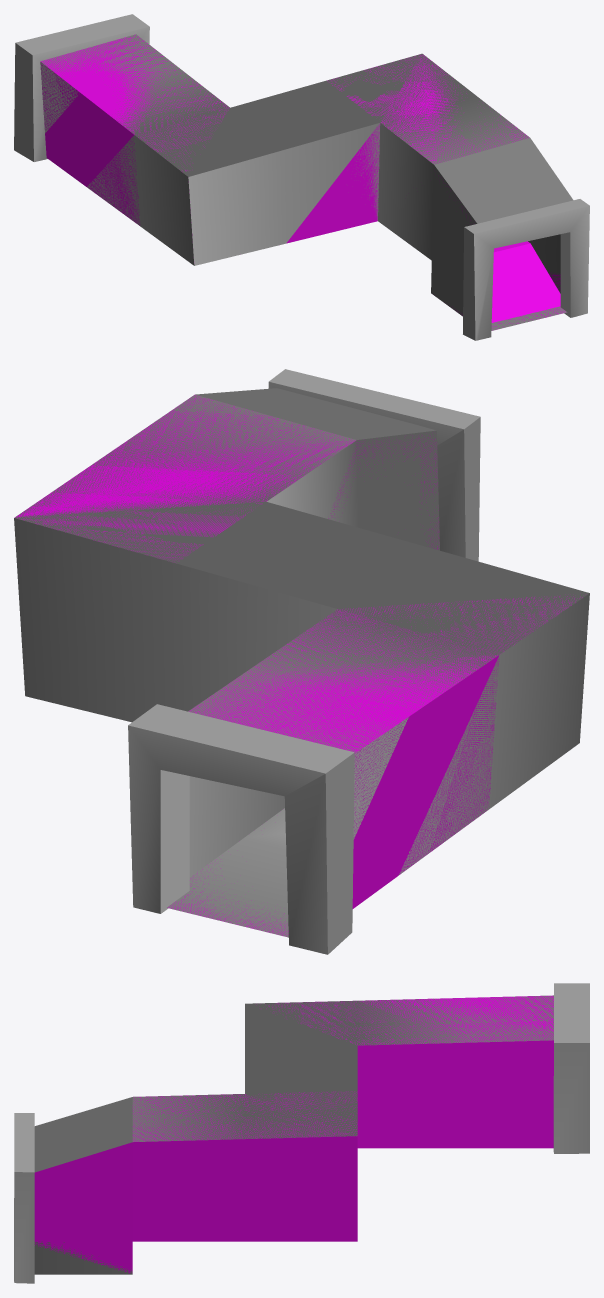
File: office_connector1.fbx
The picture shows the model from 3 angles, top to bottom: view 1: azimuth 30°, elevation 25°; view 2: azimuth 150°, elevation 25°; view 3: azimuth 270°, elevation 25°; orthographic projection. The views are drawn at different scales.
Visible parts, largest first — view 1: wall, polySurface1, DoorFrame_Connector1, DoorFrame_Connector2, stair_collsion, floor; view 2: wall, polySurface1, DoorFrame_Connector2, DoorFrame_Connector1, floor (×2); view 3: polySurface1, wall, DoorFrame_Connector2, DoorFrame_Connector1.
Part boxes in pixels (bbox=[...]): wall: bbox=[40, 34, 573, 316]; polySurface1: bbox=[40, 34, 560, 315]; DoorFrame_Connector1: bbox=[463, 199, 589, 340]; DoorFrame_Connector2: bbox=[14, 14, 149, 161]; stair_collsion: bbox=[491, 241, 560, 322]; floor: bbox=[491, 306, 566, 330]; wall: bbox=[14, 388, 589, 877]; polySurface1: bbox=[14, 394, 582, 908]; DoorFrame_Connector2: bbox=[128, 704, 354, 954]; DoorFrame_Connector1: bbox=[268, 369, 480, 561]; floor (×2): bbox=[167, 808, 288, 937]; polySurface1: bbox=[34, 995, 553, 1273]; wall: bbox=[34, 995, 553, 1274]; DoorFrame_Connector2: bbox=[553, 983, 589, 1153]; DoorFrame_Connector1: bbox=[14, 1113, 34, 1283].
Size of what is drawn, in the model's own units: 48.38 by 21.84 by 76.77.
